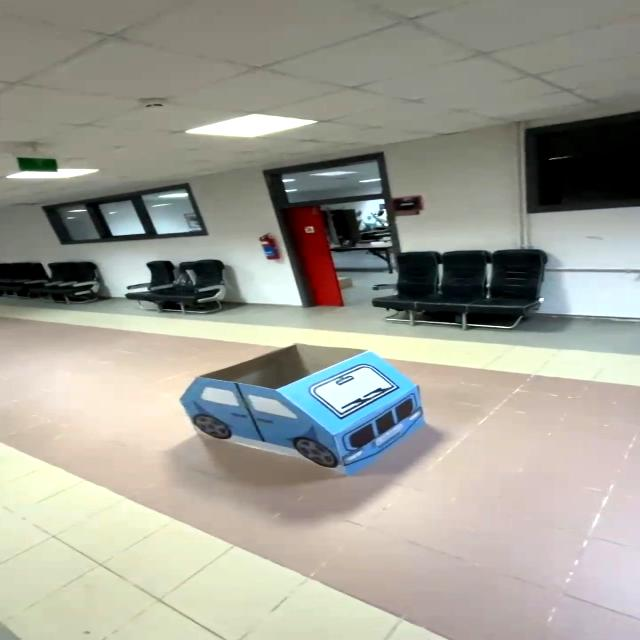blue_car: (155, 330, 469, 509)
